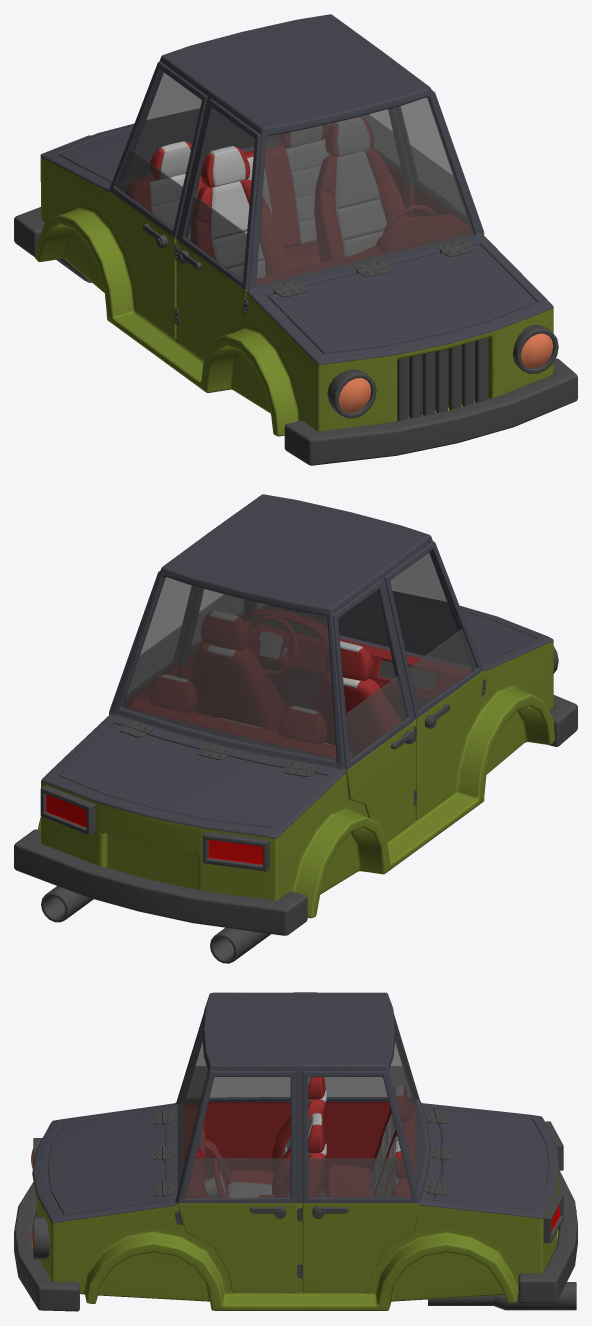
File: toye_car_v01.fbx
3 renders of one model, top to bottom at view 1: azimuth 30°, elevation 25°; view 2: azimuth 150°, elevation 25°; view 3: azimuth 270°, elevation 25°, orthographic. The views are drawn at different scales.
Parts seen in each view (by area): view 1: car_body, car_window, car_hidden_seat, car_door, car_bumper, car_grill, car_lights, car_interior, car_hinges; view 2: car_body, car_window, car_hidden_seat, car_door, car_bumper, car_interior, car_lights, car_tailpipe, car_hinges; view 3: car_body, car_door, car_window, car_hidden_seat, car_bumper, car_interior, car_hinges, car_lights, car_tailpipe, car_doorhandles.
Part boxes in pixels (x1,y1,x2,y2): car_body: [34, 14, 553, 436]; car_window: [115, 72, 474, 287]; car_hidden_seat: [126, 117, 407, 279]; car_door: [109, 61, 484, 360]; car_bumper: [14, 207, 577, 465]; car_grill: [397, 337, 487, 421]; car_lights: [40, 135, 558, 418]; car_interior: [256, 205, 470, 284]; car_hinges: [174, 147, 473, 324]; car_body: [38, 494, 555, 918]; car_window: [122, 552, 477, 760]; car_hidden_seat: [127, 611, 400, 758]; car_door: [109, 541, 484, 841]; car_bumper: [14, 695, 577, 935]; car_interior: [242, 608, 469, 698]; car_lights: [40, 646, 558, 871]; car_tailpipe: [41, 886, 270, 963]; car_hinges: [118, 631, 486, 806]; car_body: [32, 992, 559, 1310]; car_door: [178, 1070, 419, 1292]; car_window: [177, 1022, 425, 1198]; car_hidden_seat: [226, 1077, 414, 1197]; car_bumper: [14, 1171, 577, 1311]; car_interior: [184, 1105, 274, 1197]; car_hinges: [153, 1109, 452, 1278]; car_lights: [31, 1121, 563, 1259]; car_tailpipe: [428, 1210, 576, 1310]; car_doorhandles: [250, 1206, 348, 1218].
Bounding box in the file's own units: 170 × 161 × 337.
